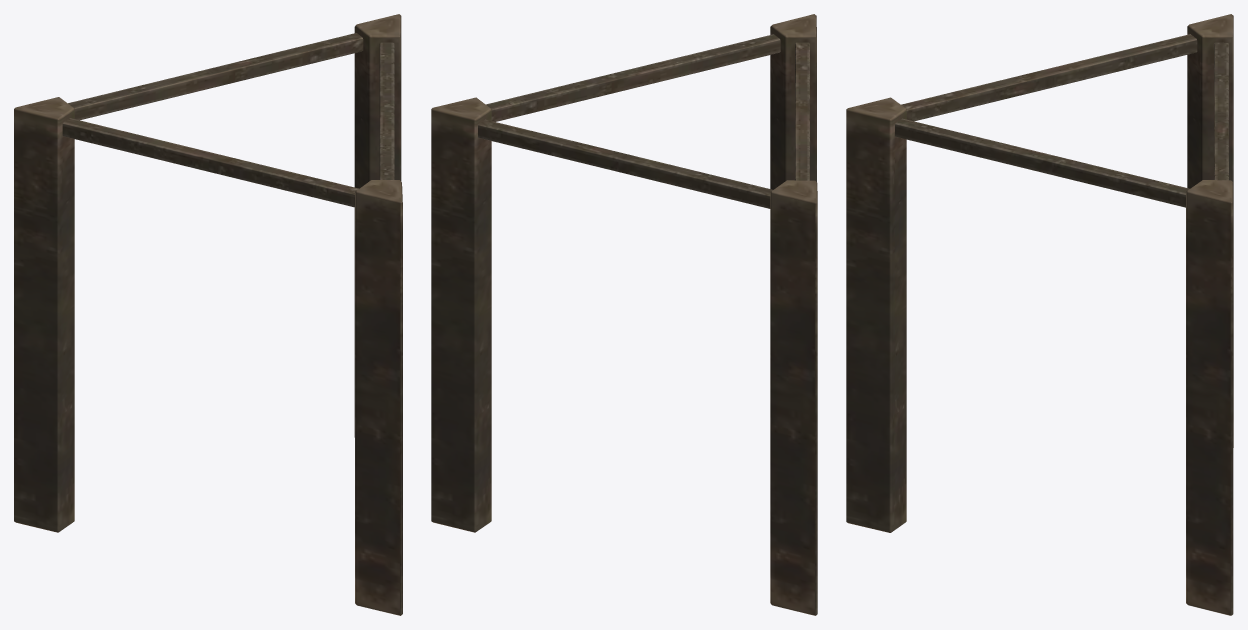
Rendered from foundation.triangle.frontier.glb.
3 renders of one model, left to right at view 1: azimuth 30°, elevation 25°; view 2: azimuth 150°, elevation 25°; view 3: azimuth 270°, elevation 25°, orthographic.
Visible parts, largest first — view 1: model; view 2: model; view 3: model.
Part boxes in pixels (<box>): model: <box>14,14,402,615</box>; model: <box>431,14,817,615</box>; model: <box>846,14,1233,615</box>.
Bounding box in the file's own units: 2.96 × 3.03 × 2.56.
1 material, 1 textured.
